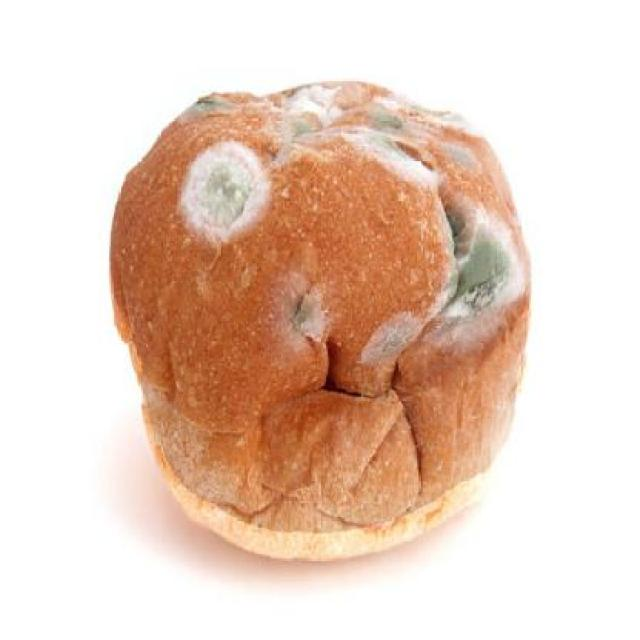mold_bread: (357, 88, 480, 195), (433, 204, 527, 340), (176, 137, 272, 245), (275, 71, 346, 161), (276, 274, 336, 347), (355, 310, 416, 371), (167, 85, 234, 123)
